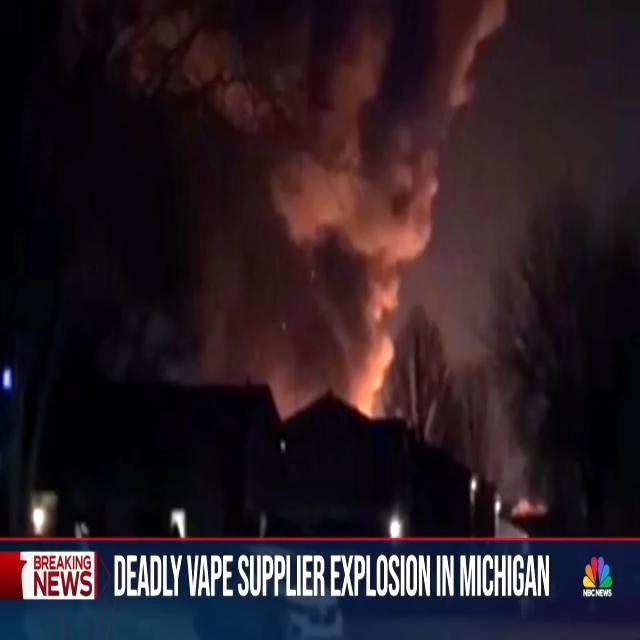fire: (240, 224, 452, 448)
